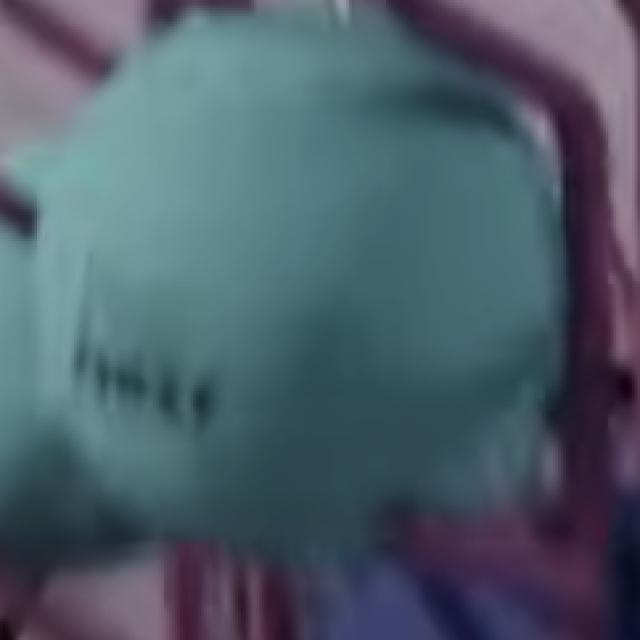Algae: (39, 15, 567, 547), (0, 143, 150, 567)
Reef: (387, 502, 577, 606), (0, 0, 116, 91), (0, 184, 36, 243)
